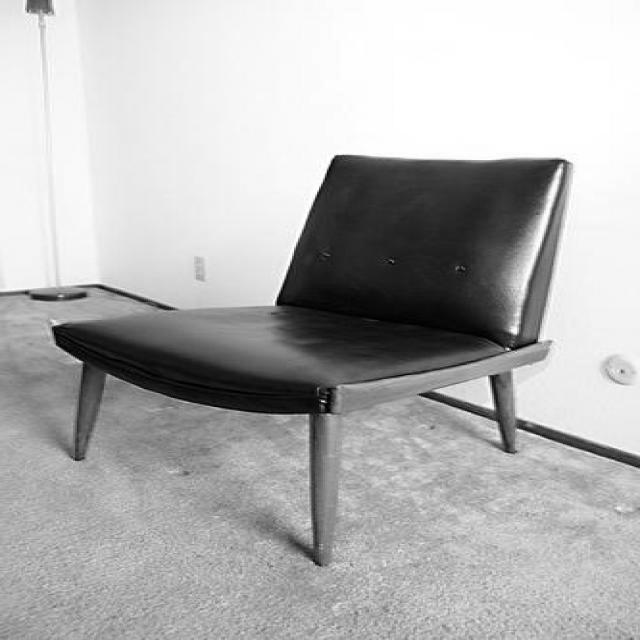chair: (54, 154, 584, 567)
